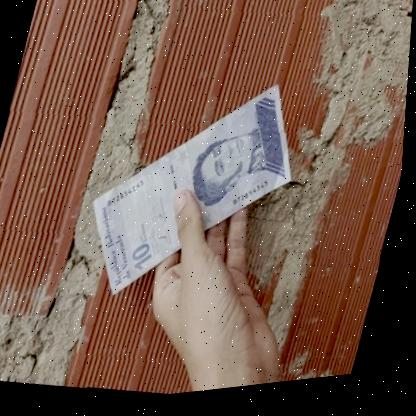ten-front-vef: (72, 58, 317, 329)
